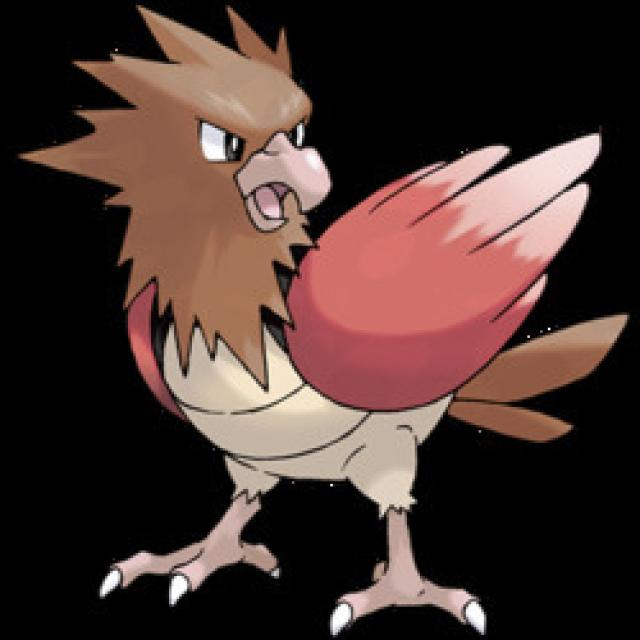Spearow: (104, 40, 598, 584)
